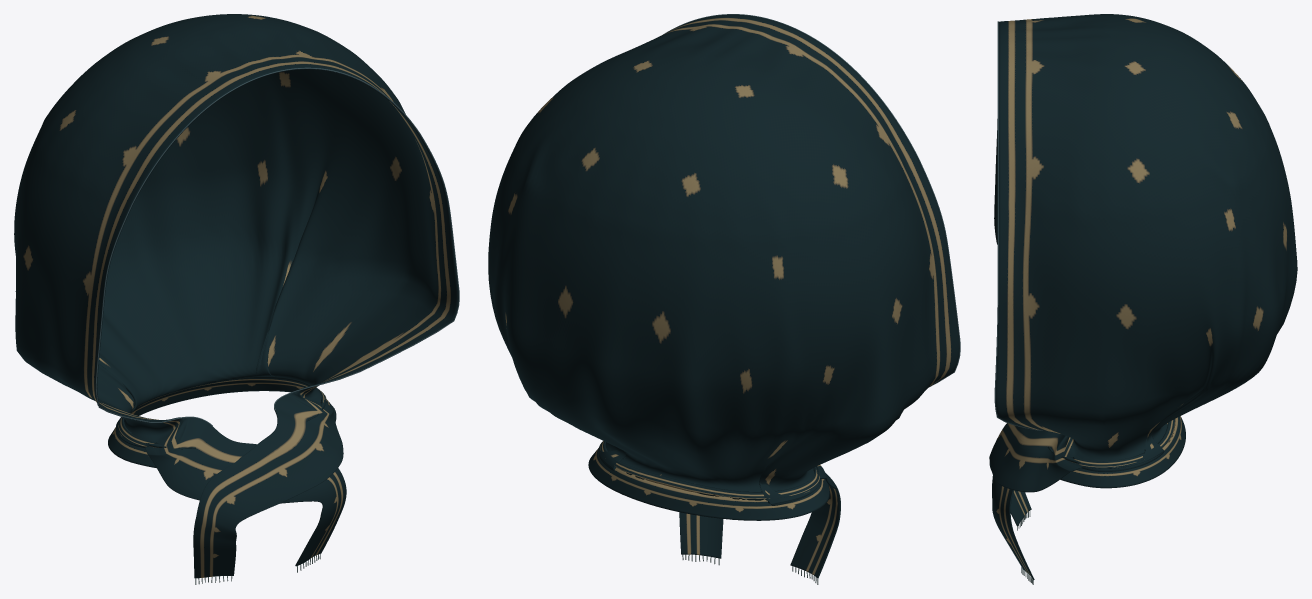
File: Feminine-tshirt-pashmina239-headgear.glb
The picture shows the model from 3 angles, left to right: view 1: azimuth 30°, elevation 25°; view 2: azimuth 150°, elevation 25°; view 3: azimuth 270°, elevation 25°; orthographic projection. The views are drawn at different scales.
Parts seen in each view (by area): view 1: 226 headgear / Headwear / continuous woven pashmina239, 226 headgear / Headwear / face edge239; view 2: 226 headgear / Headwear / continuous woven pashmina239, 226 headgear / Headwear / face edge239; view 3: 226 headgear / Headwear / continuous woven pashmina239, 226 headgear / Headwear / face edge239.
Part boxes in pixels (left/top/right/bottom): 226 headgear / Headwear / continuous woven pashmina239: left=14, top=14, right=458, bottom=578; 226 headgear / Headwear / face edge239: left=95, top=67, right=459, bottom=425; 226 headgear / Headwear / continuous woven pashmina239: left=488, top=14, right=959, bottom=578; 226 headgear / Headwear / face edge239: left=663, top=14, right=960, bottom=387; 226 headgear / Headwear / continuous woven pashmina239: left=989, top=14, right=1297, bottom=580; 226 headgear / Headwear / face edge239: left=994, top=21, right=1044, bottom=430.
Size of the model in its own units: 1.02 by 1.35 by 0.7228.
3 materials, 1 textured.
